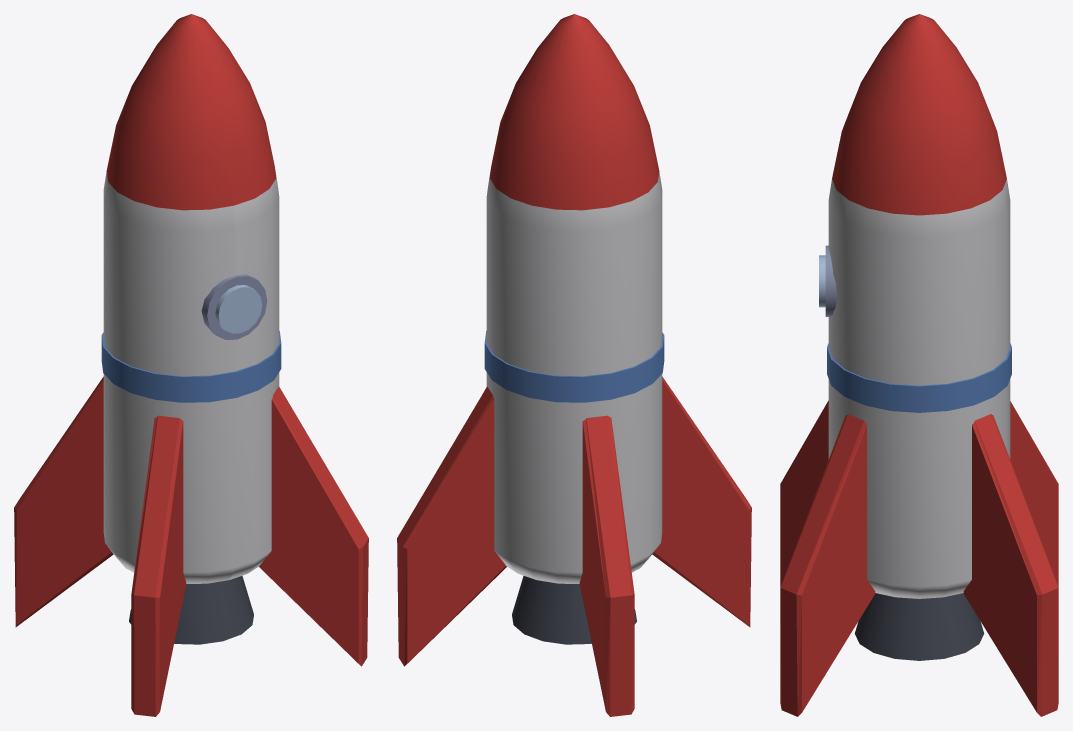
Rendered from foguete.glb.
3 views of the same model, side by side, from view 1: azimuth 30°, elevation 25°; view 2: azimuth 150°, elevation 25°; view 3: azimuth 270°, elevation 25° (orthographic). The views are drawn at different scales.
Parts seen in each view (by area): view 1: modelo; view 2: modelo; view 3: modelo.
Boxes of the visible parts, x1=… form: modelo: x1=14, y1=14, x2=368, y2=716; modelo: x1=397, y1=14, x2=751, y2=716; modelo: x1=780, y1=14, x2=1058, y2=716.
Size of the model in its own units: 1.51 by 3.85 by 1.51.
